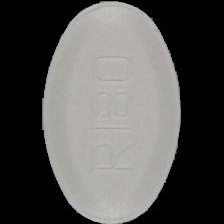49999-347: (0, 0, 224, 224)
